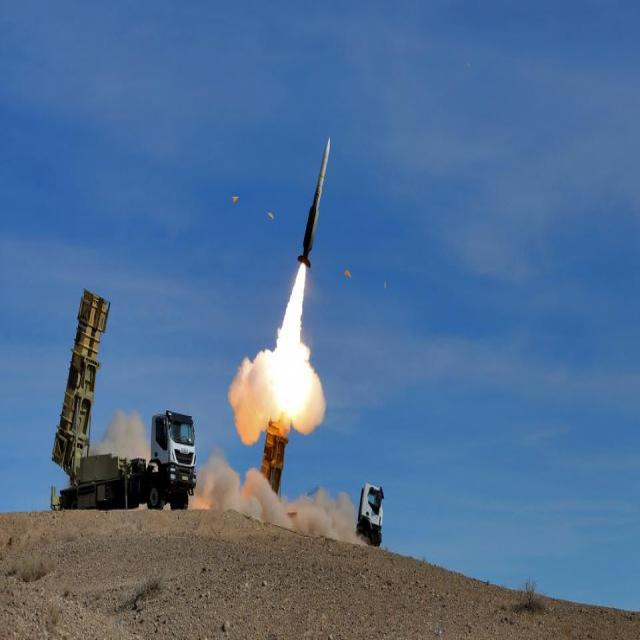rocket: (262, 135, 338, 416)
